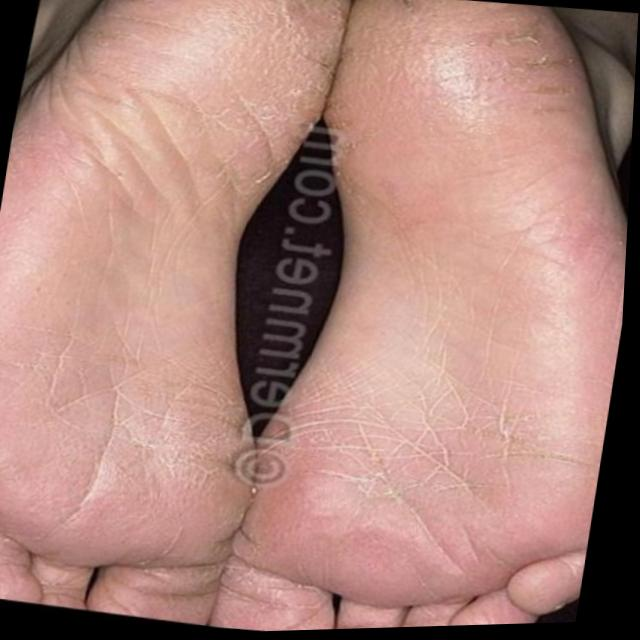Eczema: (32, 0, 346, 537), (278, 0, 592, 519)
